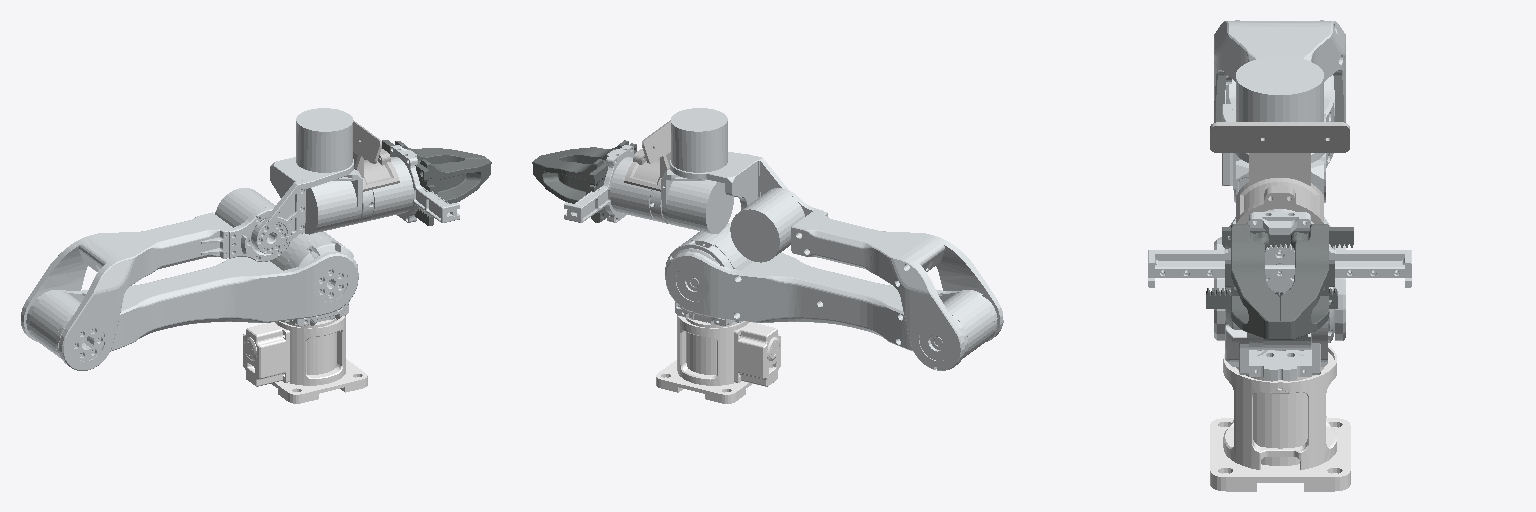
URDF robot description (y1_description):
<?xml version="1.0" encoding="utf-8"?>
<!-- This URDF was automatically created by SolidWorks to URDF Exporter! Originally created by [author] ([email redacted]) 
     Commit Version: 1.6.0-4-g7f85cfe  Build Version: 1.6.7995.38578
     For more information, please see http://wiki.ros.org/sw_urdf_exporter -->
<robot
  name="y1_description">
  <link name="world" />
  <joint name="fixed_base_joint" type="fixed">
      <parent link="world" />
      <child link="base_link" />
  </joint>
  <link
    name="base_link">
    <inertial>
      <origin
        xyz="-0.00594885814133117 1.74815920781197E-07 0.0348007672592276"
        rpy="0 0 0" />
      <mass
        value="0.710539568297307" />
      <inertia
        ixx="0.000443657464008301"
        ixy="6.25566859542462E-08"
        ixz="9.59870028750112E-07"
        iyy="0.000441077995533288"
        iyz="-9.9725911250569E-09"
        izz="0.000508211347165629" />
    </inertial>
    <visual>
      <origin
        xyz="0 0 0"
        rpy="0 0 0" />
      <geometry>
        <mesh
          filename="./meshes2/base_link.dae" />
      </geometry>
      <material
        name="">
        <color
          rgba="1 1 1 1" />
      </material>
    </visual>
    <collision>
      <origin
        xyz="0 0 0"
        rpy="0 0 0" />
      <geometry>
        <mesh
          filename="./meshes2/base_link.STL" />
      </geometry>
    </collision>
  </link>
  <link
    name="link1">
    <inertial>
      <origin
        xyz="0.000681166801672072 -0.000462329144553357 0.045774892481422"
        rpy="0 0 0" />
      <mass
        value="0.465086237348566" />
      <inertia
        ixx="0.000229226849289421"
        ixy="6.51443398285823E-09"
        ixz="4.13823216869872E-08"
        iyy="0.000349392243512686"
        iyz="4.09909327547663E-06"
        izz="0.000228246849171451" />
    </inertial>
    <visual>
      <origin
        xyz="0 0 0"
        rpy="0 0 0" />
      <geometry>
        <mesh
          filename="./meshes2/link1.dae" />
      </geometry>
      <material
        name="">
        <color
          rgba="0.898039215686275 0.917647058823529 0.929411764705882 1" />
      </material>
    </visual>
    <collision>
      <origin
        xyz="0 0 0"
        rpy="0 0 0" />
      <geometry>
        <mesh
          filename="./meshes2/link1.STL" />
      </geometry>
    </collision>
  </link>
  <joint
    name="joint1"
    type="revolute">
    <origin
      xyz="0 0 0.06675"
      rpy="0 0 0" />
    <parent
      link="base_link" />
    <child
      link="link1" />
    <axis
      xyz="0 0 1" />
    <limit
      lower="-2.79"
      upper="2.79"
      effort="30"
      velocity="5" />
  </joint>
  <link
    name="link2">
    <inertial>
      <origin
        xyz="-0.188833638735521 -0.00103696741234357 -0.000652233492404069"
        rpy="0 0 0" />
      <mass
        value="1.00848298285328" />
      <inertia
        ixx="0.000410794334923653"
        ixy="-8.40217264906029E-05"
        ixz="8.54409117485555E-06"
        iyy="0.00604170923770196"
        iyz="-2.44381206367219E-07"
        izz="0.00611040782192728" />
    </inertial>
    <visual>
      <origin
        xyz="0 0 0"
        rpy="0 0 0" />
      <geometry>
        <mesh
          filename="./meshes2/link2.dae" />
      </geometry>
      <material
        name="">
        <color
          rgba="0.898039215686275 0.917647058823529 0.929411764705882 1" />
      </material>
    </visual>
    <collision>
      <origin
        xyz="0 0 0"
        rpy="0 0 0" />
      <geometry>
        <mesh
          filename="./meshes2/link2.STL" />
      </geometry>
    </collision>
  </link>
  <joint
    name="joint2"
    type="revolute">
    <origin
      xyz="0.00075 0 0.055"
      rpy="1.5707963267949 0 0" />
    <parent
      link="link1" />
    <child
      link="link2" />
    <axis
      xyz="0 0 1" />
    <limit
      lower="-3.14"
      upper="0"
      effort="100"
      velocity="5" />
  </joint>
  <link
    name="link3">
    <inertial>
      <origin
        xyz="0.13303236944819 0.053001605443094 0.000290607418881382"
        rpy="0 0 0" />
      <mass
        value="0.839664048562432" />
      <inertia
        ixx="0.000602602150085638"
        ixy="0.000475019647951162"
        ixz="4.78547835289741E-06"
        iyy="0.00179992027506354"
        iyz="2.90178948383024E-06"
        izz="0.00208247690030194" />
    </inertial>
    <visual>
      <origin
        xyz="0 0 0"
        rpy="0 0 0" />
      <geometry>
        <mesh
          filename="./meshes2/link3.dae" />
      </geometry>
      <material
        name="">
        <color
          rgba="0.898039215686275 0.917647058823529 0.929411764705882 1" />
      </material>
    </visual>
    <collision>
      <origin
        xyz="0 0 0"
        rpy="0 0 0" />
      <geometry>
        <mesh
          filename="./meshes2/link3.STL" />
      </geometry>
    </collision>
  </link>
  <joint
    name="joint3"
    type="revolute">
    <origin
      xyz="-0.28 0 0"
      rpy="0 0 0" />
    <parent
      link="link2" />
    <child
      link="link3" />
    <axis
      xyz="0 0 1" />
    <limit
      lower="0"
      upper="3.14"
      effort="30"
      velocity="5" />
  </joint>
  <link
    name="link4">
    <inertial>
      <origin
        xyz="0.0676553454608046 0.0601804606336394 0.00493164046961679"
        rpy="0 0 0" />
      <mass
        value="0.455192807281481" />
      <inertia
        ixx="0.000175905701610462"
        ixy="2.09881793084199E-05"
        ixz="-5.70112881813548E-06"
        iyy="0.00021185619989683"
        iyz="-5.28404240592637E-06"
        izz="0.000207766320080551" />
    </inertial>
    <visual>
      <origin
        xyz="0 0 0"
        rpy="0 0 0" />
      <geometry>
        <mesh
          filename="./meshes2/link4.dae" />
      </geometry>
      <material
        name="">
        <color
          rgba="0.898039215686275 0.917647058823529 0.929411764705882 1" />
      </material>
    </visual>
    <collision>
      <origin
        xyz="0 0 0"
        rpy="0 0 0" />
      <geometry>
        <mesh
          filename="./meshes2/link4.STL" />
      </geometry>
    </collision>
  </link>
  <joint
    name="joint4"
    type="revolute">
    <origin
      xyz="0.215000000191949 0.062999999344955 0"
      rpy="0 0 0" />
    <parent
      link="link3" />
    <child
      link="link4" />
    <axis
      xyz="0 0 1" />
    <limit
      lower="-2.145"
      upper="1.413"
      effort="10"
      velocity="20" />
  </joint>
  <link
    name="link5">
    <inertial>
      <origin
        xyz="0.00184718198779937 1.71555473194154E-05 0.0401130289643779"
        rpy="0 0 0" />
      <mass
        value="0.37350857138172" />
      <inertia
        ixx="0.000164420724368751"
        ixy="9.01113714088931E-08"
        ixz="8.61462336637628E-06"
        iyy="0.000150227049138266"
        iyz="7.29000317164614E-07"
        izz="0.000141162755688236" />
    </inertial>
    <visual>
      <origin
        xyz="0 0 0"
        rpy="0 0 0" />
      <geometry>
        <mesh
          filename="./meshes2/link5.dae" />
      </geometry>
      <material
        name="">
        <color
          rgba="0.898039215686275 0.917647058823529 0.929411764705882 1" />
      </material>
    </visual>
    <collision>
      <origin
        xyz="0 0 0"
        rpy="0 0 0" />
      <geometry>
        <mesh
          filename="./meshes2/link5.STL" />
      </geometry>
    </collision>
  </link>
  <joint
    name="joint5"
    type="revolute">
    <origin
      xyz="0.0808173961212753 0.0507202965702747 0.000249997832943334"
      rpy="1.5707963267949 0 0" />
    <parent
      link="link4" />
    <child
      link="link5" />
    <axis
      xyz="0 0 1" />
    <limit
      lower="-1.482"
      upper="1.482"
      effort="10"
      velocity="20" />
  </joint>
  <link
    name="link6">
    <inertial>
      <origin
        xyz="-7.49599778135379E-06 -0.00013005136298912 0.0107241456109823"
        rpy="0 0 0" />
      <mass
        value="0.0710864913917462" />
      <inertia
        ixx="1.6401347920533E-05"
        ixy="-1.49553772726508E-07"
        ixz="2.14734308108841E-07"
        iyy="1.63719812629545E-05"
        iyz="1.0859635466048E-08"
        izz="3.09205907254189E-05" />
    </inertial>
    <visual>
      <origin
        xyz="0 0 0"
        rpy="0 0 0" />
      <geometry>
        <mesh
          filename="./meshes2/link6.dae" />
      </geometry>
      <material
        name="">
        <color
          rgba="0.898039215686275 0.917647058823529 0.929411764705882 1" />
      </material>
    </visual>
    <collision>
      <origin
        xyz="0 0 0"
        rpy="0 0 0" />
      <geometry>
        <mesh
          filename="./meshes2/link6.STL" />
      </geometry>
    </collision>
  </link>
  <joint
    name="joint6"
    type="revolute">
    <origin
      xyz="0.0227968089529965 0 0.0443684065693784"
      rpy="0 1.5707963267949 0" />
    <parent
      link="link5" />
    <child
      link="link6" />
    <axis
      xyz="0 0 1" />
    <limit
      lower="-2.529"
      upper="2.529"
      effort="10"
      velocity="20" />
  </joint>
  <link
    name="gripper_base">
    <inertial>
      <origin
        xyz="1.8116022072745E-07 -6.59899547614519E-06 -0.0236534167124916"
        rpy="0 0 0" />
      <mass
        value="0.472677133888304" />
      <inertia
        ixx="0.000352068319247928"
        ixy="-2.46417635975675E-08"
        ixz="-1.78183230772186E-10"
        iyy="0.000135507470952368"
        iyz="1.36393205161364E-08"
        izz="0.000378993699632994" />
    </inertial>
    <visual>
      <origin
        xyz="0 0 0"
        rpy="0 0 0" />
      <geometry>
        <mesh
          filename="./meshes2/gripper_base.dae" />
      </geometry>
      <material
        name="">
        <color
          rgba="0.898039215686275 0.917647058823529 0.929411764705882 1" />
      </material>
    </visual>
    <collision>
      <origin
        xyz="0 0 0"
        rpy="0 0 0" />
      <geometry>
        <mesh
          filename="./meshes2/gripper_base.STL" />
      </geometry>
    </collision>
  </link>
  <joint
    name="gripper_base"
    type="fixed">
    <origin
      xyz="-0.00120627967358662 0 0.0757904010332325"
      rpy="0 -0.015914651654156 0" />
    <parent
      link="link6" />
    <child
      link="gripper_base" />
    <axis
      xyz="0 0 0" />
  </joint>

<link name="camera_mount">
    <visual>
      <origin xyz="0 0 0.08" rpy="0 0 0"/>
      <geometry>
        <mesh filename="./meshes2/camera_link.dae"/>
      </geometry>
    </visual>
  </link>
  <joint name="link6_to_camera_mount" type="fixed">
    <parent link="link6"/>
    <child link="camera_mount"/>
    <origin xyz="0 0 -0.077" rpy="0 0 -1.5708"/>
  </joint>
  <link name="camera">
    <visual>
      <origin xyz="0.014 -0.045 -0.03" rpy="0.1 0 -1.5707963267948966"/>
      <geometry>
        <mesh filename="./meshes2/camera.glb"/>
      </geometry>
    </visual>
  </link>
  <joint name="camera_joint" type="fixed">
    <parent link="camera_mount"/>
    <child link="camera"/>
    <origin xyz="0.045 0.09 0.115" rpy="0 -1.1116926535897932 -1.5707963267948966"/>
  </joint>


  <link
    name="link7">
    <inertial>
      <origin
        xyz="0.0136358557633384 -0.0101974363145318 0.0643753957399442"
        rpy="0 0 0" />
      <mass
        value="0.0941874462283945" />
      <inertia
        ixx="3.59554789171064E-05"
        ixy="-2.91912170987263E-07"
        ixz="4.58349488759558E-06"
        iyy="5.42304422063263E-05"
        iyz="-1.03838463761627E-07"
        izz="3.56193231141655E-05" />
    </inertial>
    <visual>
      <origin
        xyz="0 0 0"
        rpy="0 0 0" />
      <geometry>
        <mesh
          filename="./meshes2/link7.dae" />
      </geometry>
      <material
        name="">
        <color
          rgba="0.529411764705882 0.549019607843137 0.549019607843137 1" />
      </material>
    </visual>
    <collision>
      <origin
        xyz="0 0 0"
        rpy="0 0 0" />
      <geometry>
        <mesh
          filename="./meshes2/link7.STL" />
      </geometry>
    </collision>
  </link>

  <joint
    name="joint7"
    type="prismatic">
    <origin
      xyz="0 -0.072000000000001 0"
      rpy="-1.5707963267949 -1.55488167514075 0" />
    <parent
      link="gripper_base" />
    <child
      link="link7" />
    <axis
      xyz="0 0 -1" />
    <limit
      lower="0"
      upper="0.04"
      effort="10"
      velocity="20" />
  </joint>
  <link
    name="link8">
    <inertial>
      <origin
        xyz="0.0139530239502495 0.00976135676822211 -0.0643753952596965"
        rpy="0 0 0" />
      <mass
        value="0.0941874502574237" />
      <inertia
        ixx="3.59554275157291E-05"
        ixy="-2.90303096877524E-07"
        ixz="-4.58447764624841E-06"
        iyy="5.42304962234321E-05"
        iyz="4.20784875227686E-08"
        izz="3.56193259784968E-05" />
    </inertial>
    <visual>
      <origin
        xyz="0 0 0"
        rpy="0 0 0" />
      <geometry>
        <mesh
          filename="./meshes2/link8.dae" />
      </geometry>
      <material
        name="">
        <color
          rgba="0.529411764705882 0.549019607843137 0.549019607843137 1" />
      </material>
    </visual>
    <collision>
      <origin
        xyz="0 0 0"
        rpy="0 0 0" />
      <geometry>
        <mesh
          filename="./meshes2/link8.STL" />
      </geometry>
    </collision>
  </link>
  <joint
    name="joint8"
    type="prismatic">
    <origin
      xyz="0 0.072 0"
      rpy="-1.5708 -1.5549 0" />
    <parent
      link="gripper_base" />
    <child
      link="link8" />
    <axis
      xyz="0 0 1" />
    <limit
      lower="0"
      upper="0.04"
      effort="10"
      velocity="20" />
  </joint>
</robot>

--- What the picture shows (computed from the rendered views, not written in the file) ---
3 views of the same robot in one strip: view 1: azimuth 30°, elevation 25°; view 2: azimuth 150°, elevation 25°; view 3: azimuth 270°, elevation 25° (orthographic).
Model y1_description with 13 links and 12 joints (6 revolute, 2 prismatic, 4 fixed), rooted at world, posed every joint at zero.
Links seen in each view (by area): view 1: link2, link3, base_link, link4, gripper_base, link5, link8, link1, camera_mount, link7; view 2: link3, link2, base_link, link4, link5, gripper_base, link7, link1, camera_mount, link8; view 3: base_link, camera_mount, gripper_base, link3, link4, link8, link7, link1, link2, link5.
Boxes of the visible links, bbox=[...] form: link2: bbox=[26, 251, 358, 358]; link3: bbox=[21, 188, 289, 370]; base_link: bbox=[243, 316, 367, 403]; link4: bbox=[251, 108, 353, 253]; gripper_base: bbox=[364, 145, 459, 222]; link5: bbox=[305, 169, 362, 234]; link8: bbox=[382, 140, 491, 203]; link1: bbox=[270, 231, 357, 326]; camera_mount: bbox=[353, 120, 399, 191]; link7: bbox=[395, 141, 486, 225]; link3: bbox=[730, 188, 1003, 370]; link2: bbox=[665, 251, 997, 358]; base_link: bbox=[656, 315, 780, 403]; link4: bbox=[670, 108, 787, 210]; link5: bbox=[661, 169, 733, 233]; gripper_base: bbox=[564, 145, 659, 222]; link7: bbox=[532, 158, 608, 222]; link1: bbox=[665, 223, 752, 326]; camera_mount: bbox=[624, 120, 670, 191]; link8: bbox=[537, 140, 636, 185]; base_link: bbox=[1210, 346, 1350, 491]; camera_mount: bbox=[1210, 122, 1349, 223]; gripper_base: bbox=[1148, 209, 1411, 294]; link3: bbox=[1214, 20, 1345, 202]; link4: bbox=[1222, 56, 1324, 189]; link8: bbox=[1222, 224, 1353, 339]; link7: bbox=[1206, 224, 1337, 339]; link1: bbox=[1225, 236, 1334, 380]; link2: bbox=[1214, 75, 1345, 340]; link5: bbox=[1236, 160, 1323, 194].
Bounding box of the posed robot: 0.5142 × 0.17 × 0.2819 m (x, y, z).
11 mesh visuals loaded from 12 distinct referenced files (11 Collada DAE); not drawn: 1 (reference not matched to a file when rendering).